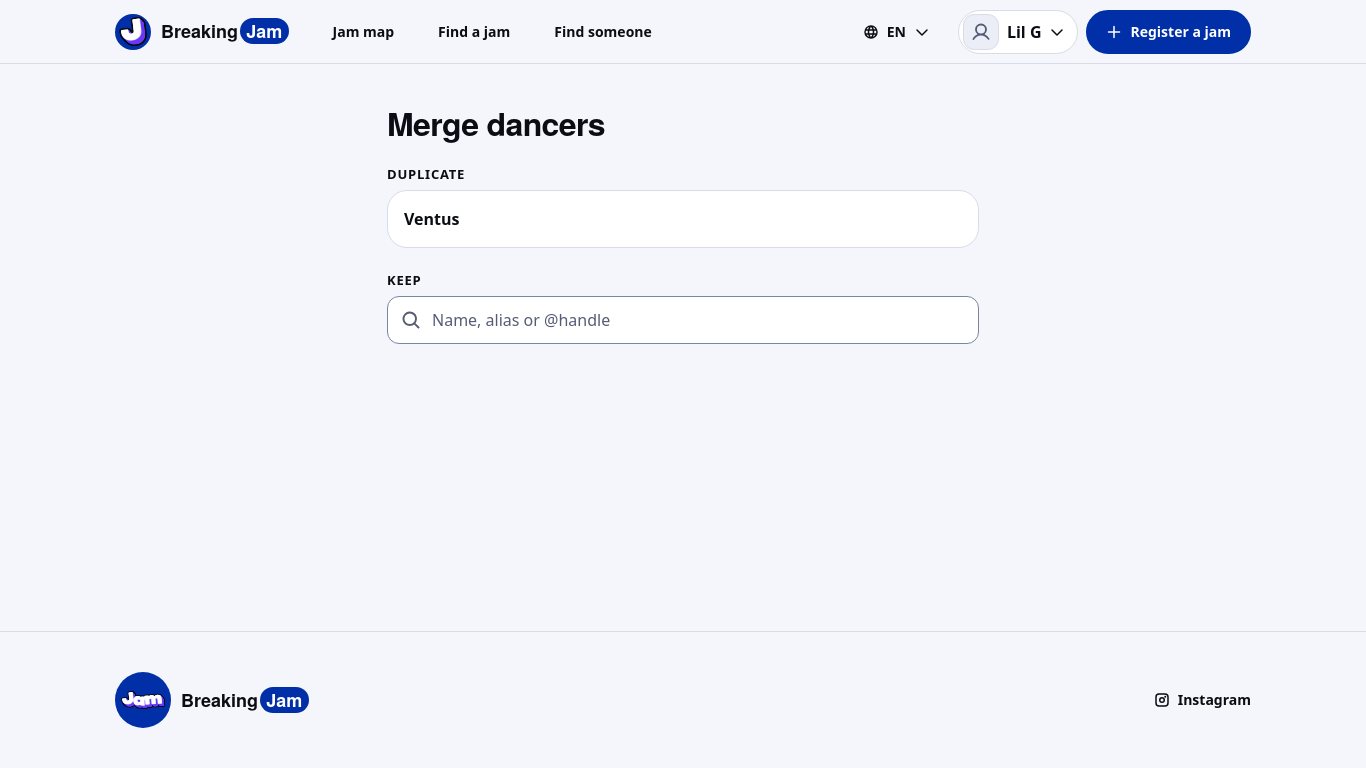
Test: dancer identity › merges a duplicate into the dancer who stays
Type "ventus" into the search field labelled "Keep" at point(683, 320), box x1=387 y1=296 x2=979 y2=344
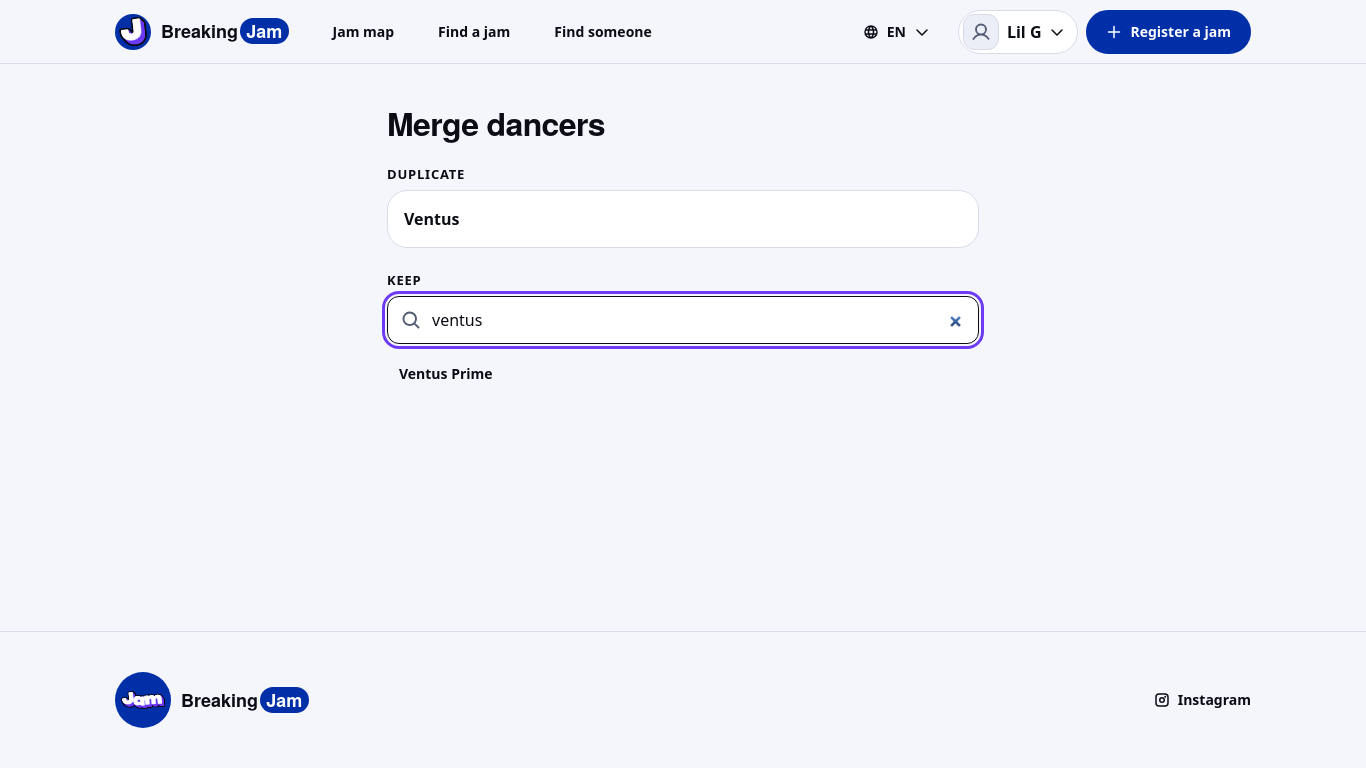
Click the button "Ventus Prime" at point(446, 374), box x1=387 y1=352 x2=979 y2=396
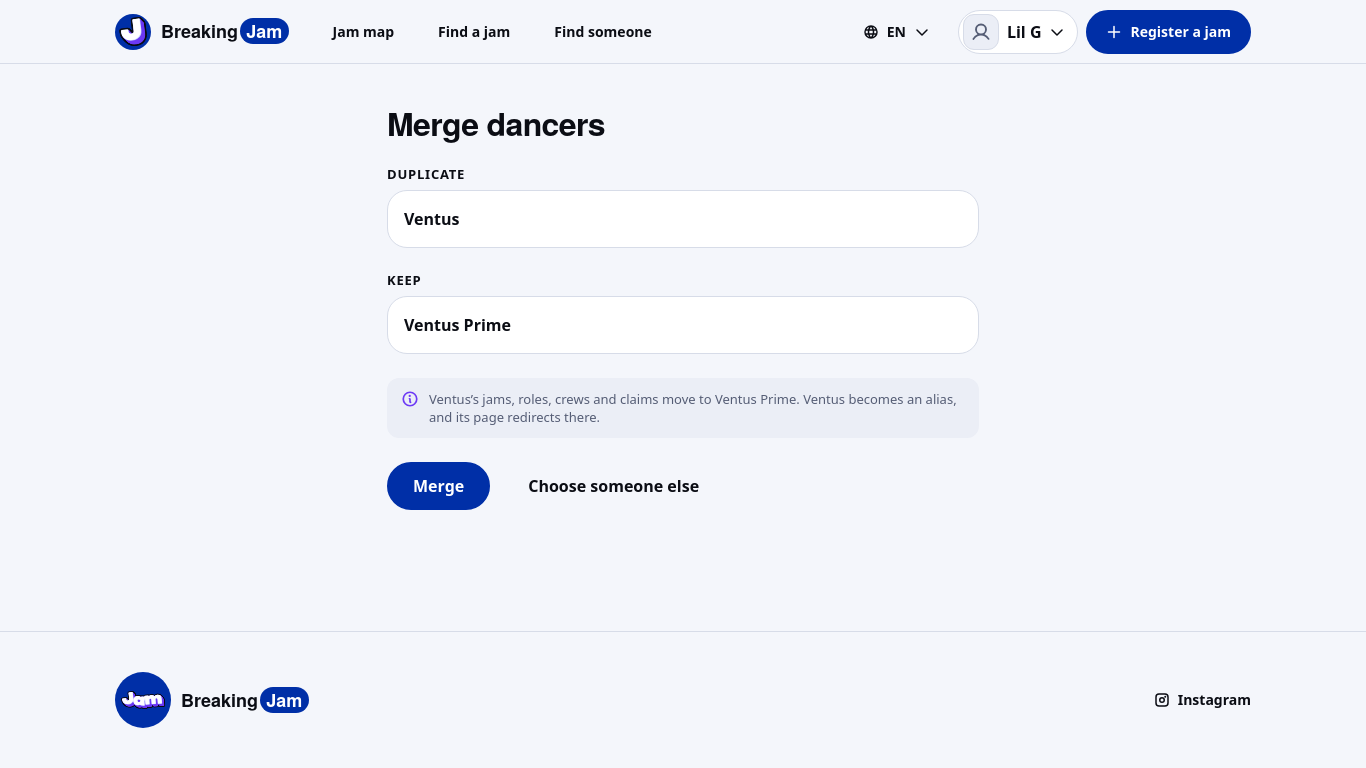
Now the text "Ventus’s jams, roles, crews and claims move to Ventus Prime" is shown, box x1=429 y1=390 x2=957 y2=426
Click the button "Merge" at point(439, 486), box x1=387 y1=462 x2=490 y2=510
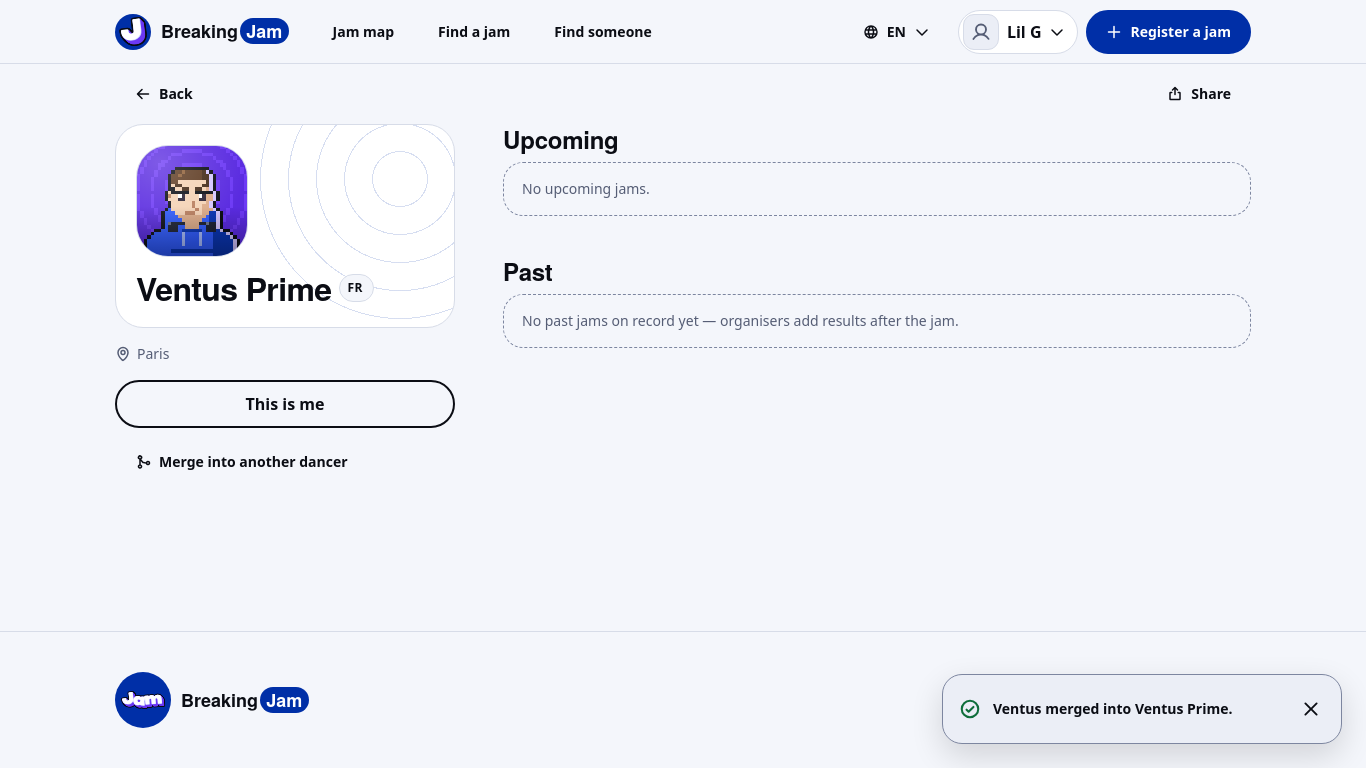
Now the heading "Ventus Prime" is shown, box x1=136 y1=269 x2=331 y2=307
